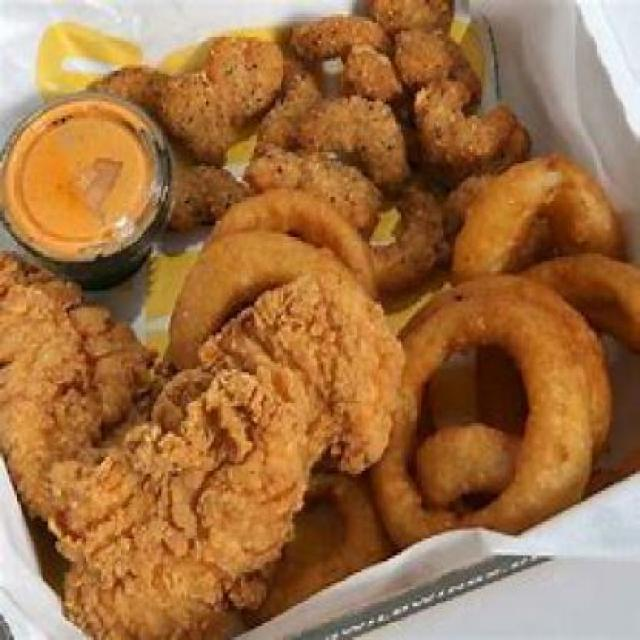onion rings: (211, 194, 638, 538)
